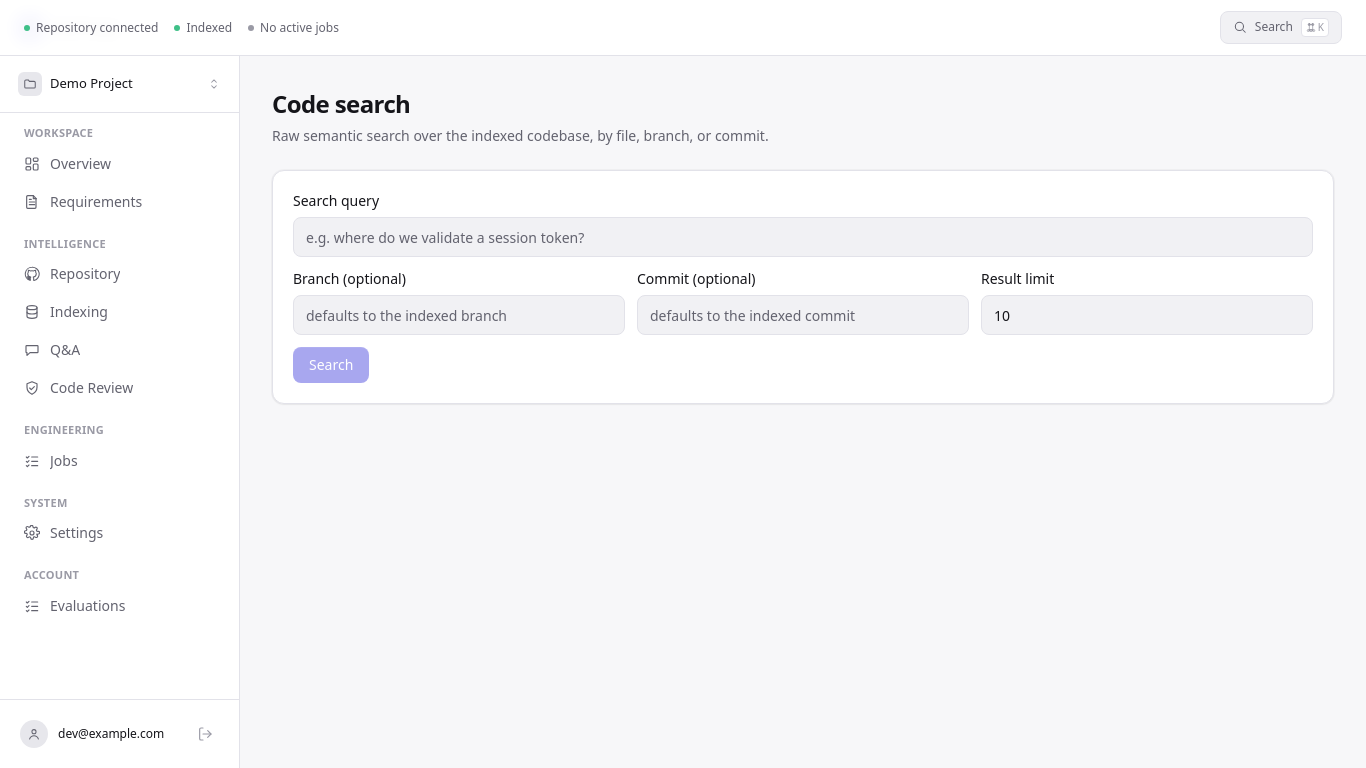
Test case: CodeSearch — ready state › shows the real error and never fabricates results on failure
Type "add two numbers" into the field labelled "Search query". click: (803, 237)
box: [293,217,1313,257]
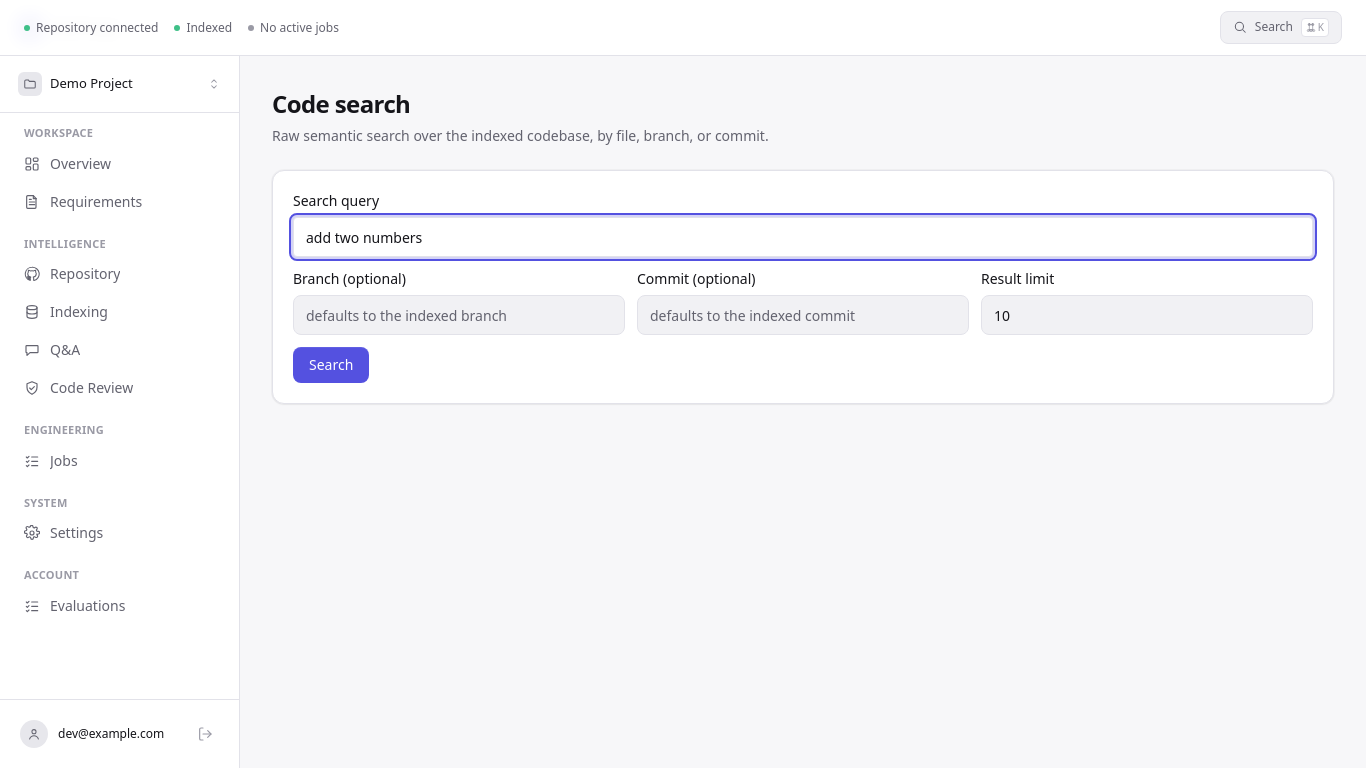
Click the button "Search". click: (331, 365)
box: [293,347,369,383]
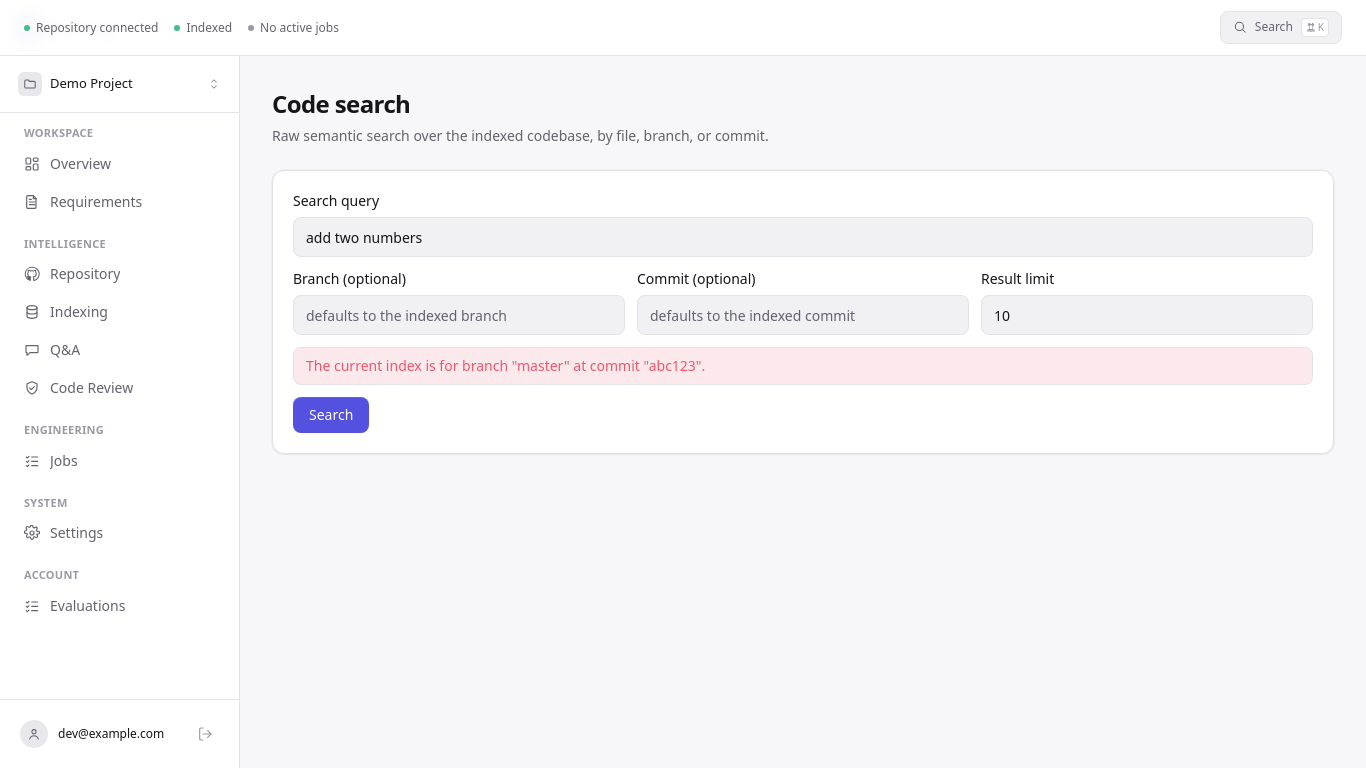
Check: the text "The current index is for branch \"master\" at commit \"abc123\"." is shown, box [293,347,1313,385]
